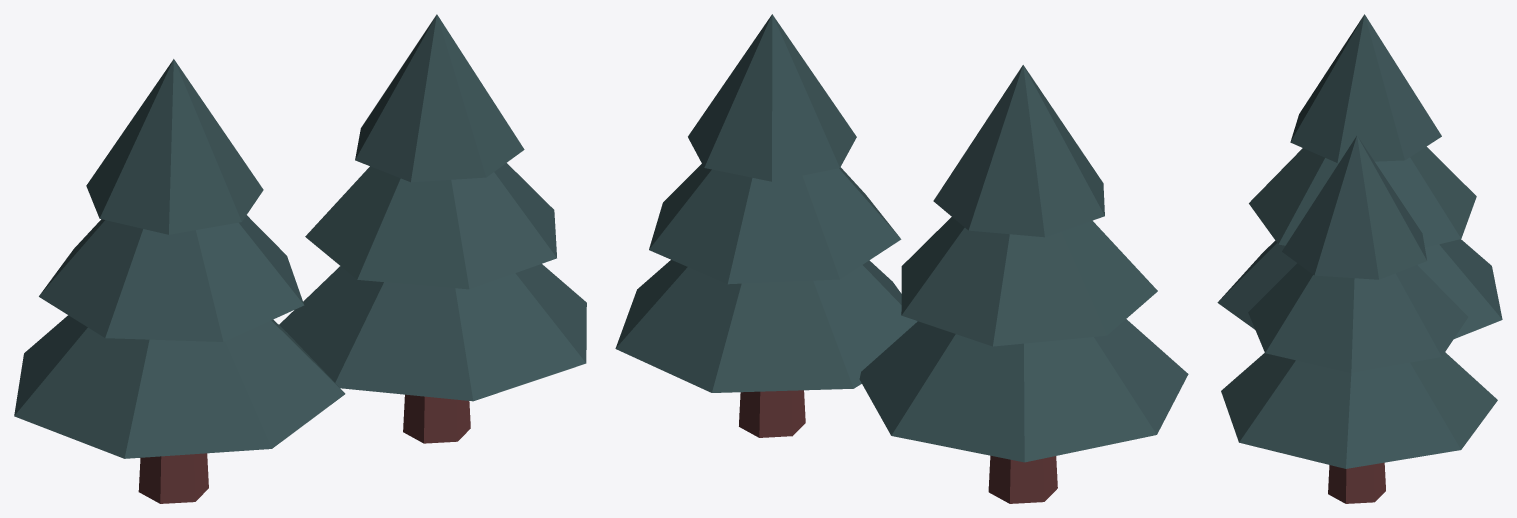
File: grove5.glb
3 views of the same model, side by side, from view 1: azimuth 30°, elevation 25°; view 2: azimuth 150°, elevation 25°; view 3: azimuth 270°, elevation 25° (orthographic). The views are drawn at different scales.
Visible parts, largest first — view 1: grove5; view 2: grove5; view 3: grove5.
Boxes of the visible parts, x1,y1,x2,y2 form: grove5: (14,14,586,503); grove5: (615,14,1188,503); grove5: (1217,14,1502,503).
Size of the model in its own units: 1.33 by 0.9987 by 0.6973.
